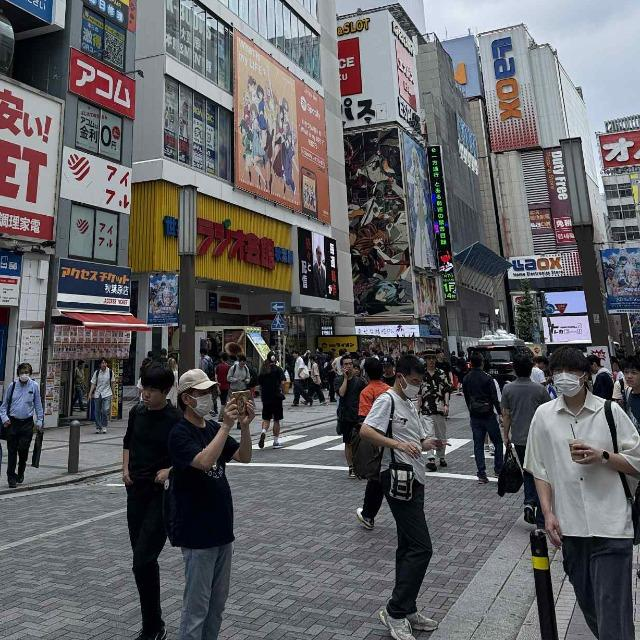NoVest: (527, 393, 639, 540), (377, 394, 431, 500)
